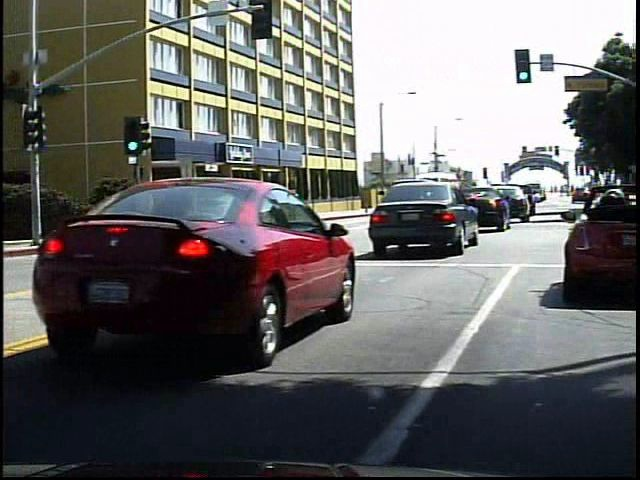person: (248, 178, 292, 217)
